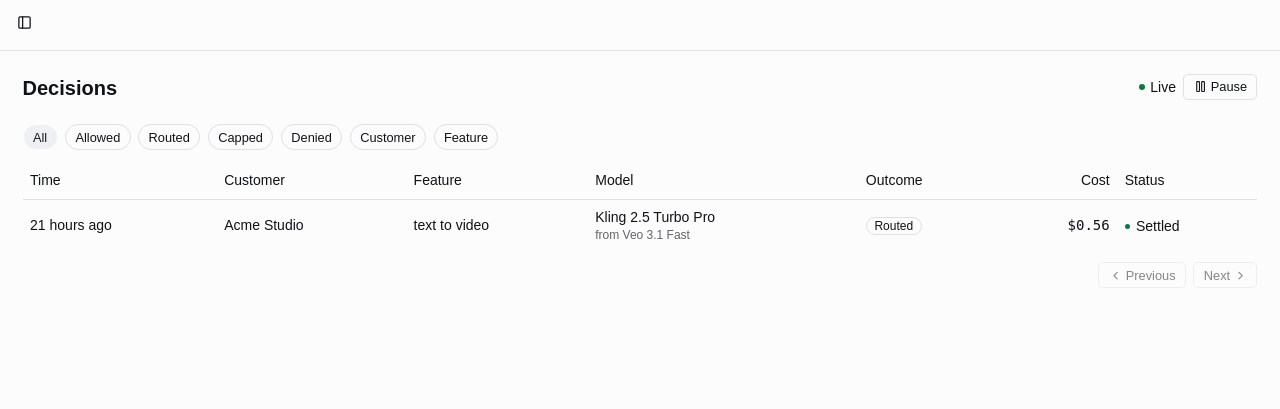
Test: pause buffers streamed decisions and resume inserts them in order
Click the button "Pause".
click(1220, 87)  # box [1184,74,1258,100]
Wait 1000 ms
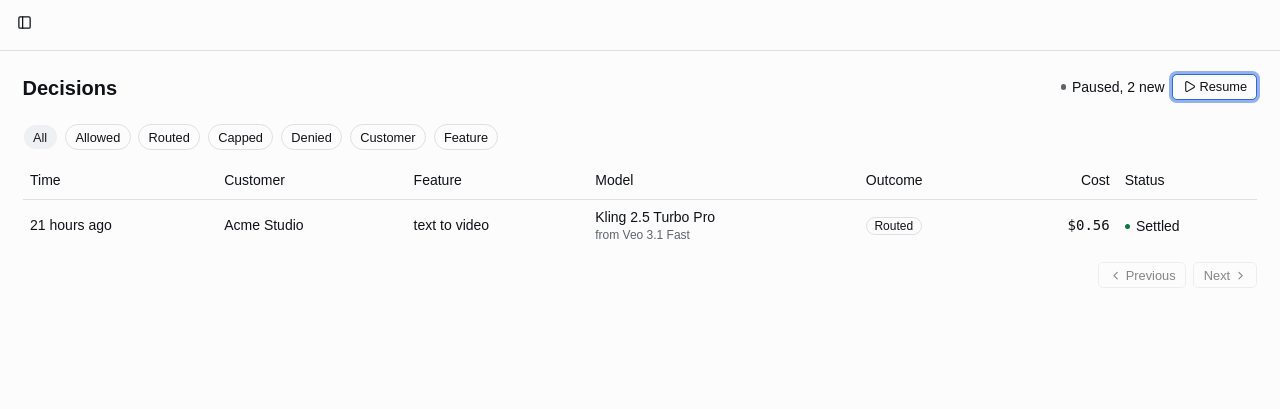
Result: the message reads "Paused, 2 new" at [1072,79,1165,95]
Click the button "Resume".
click(1215, 87)  # box [1172,74,1257,100]
Wait 1000 ms
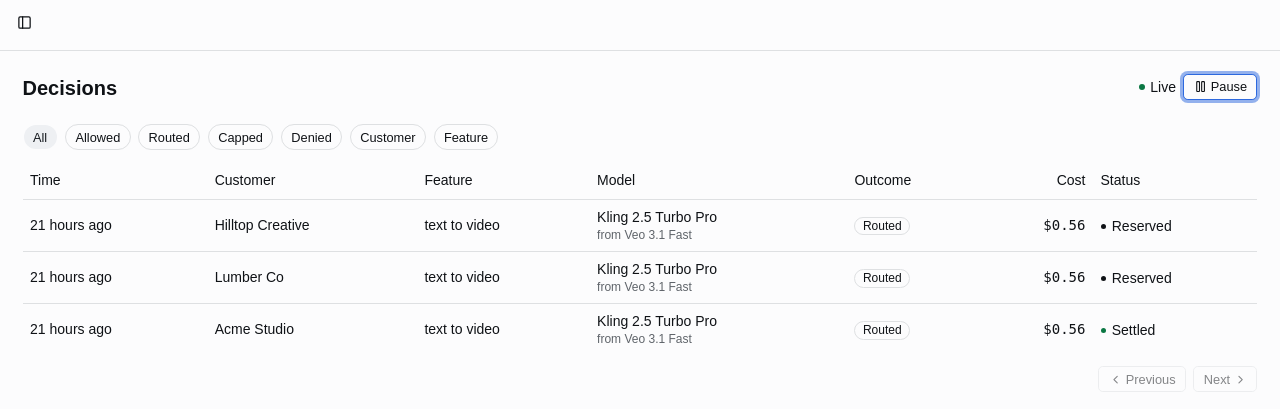
Result: the text "Hilltop Creative" is shown at [215,217,310,233]
